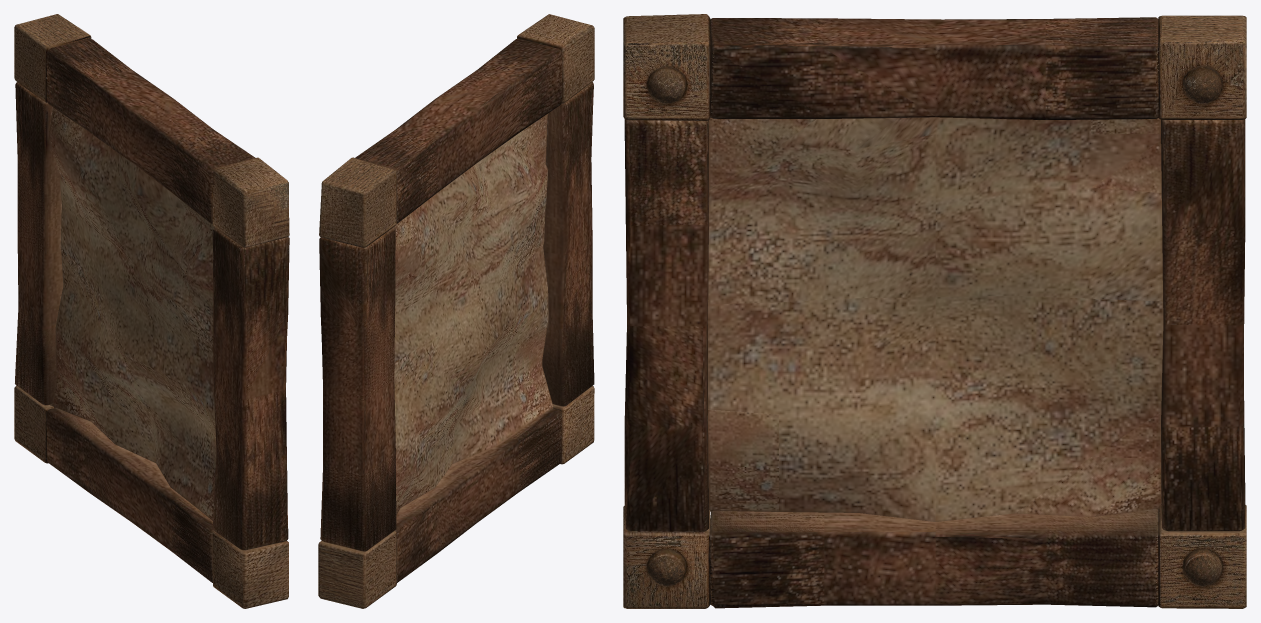
Rendered from tripo_convert_ea2342a4-6482-49ab-b8aa-5ea4d0c48e0e.fbx.
3 views of the same model, side by side, from view 1: azimuth 30°, elevation 25°; view 2: azimuth 150°, elevation 25°; view 3: azimuth 270°, elevation 25° (orthographic). The views are drawn at different scales.
Parts seen in each view (by area): view 1: tripo_node_ea2342a4; view 2: tripo_node_ea2342a4; view 3: tripo_node_ea2342a4.
Part boxes in pixels (x1,y1,x2,y2): tripo_node_ea2342a4: [14, 14, 289, 608]; tripo_node_ea2342a4: [318, 14, 594, 608]; tripo_node_ea2342a4: [623, 14, 1246, 608].
Size of the model in its own units: 0.1543 by 0.998 by 0.9941.
1 material, 1 textured.
